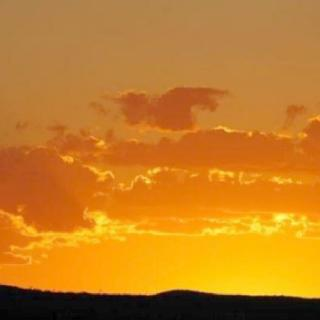Cumulus: (0, 86, 320, 274)
